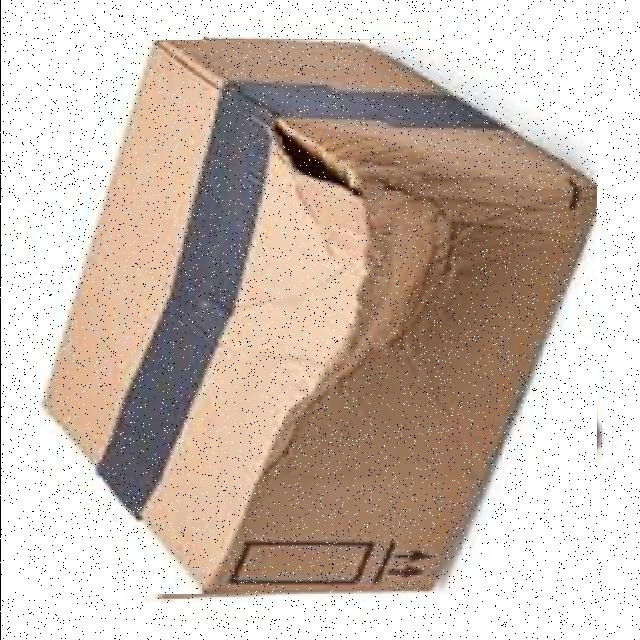defect: (38, 40, 596, 594)
